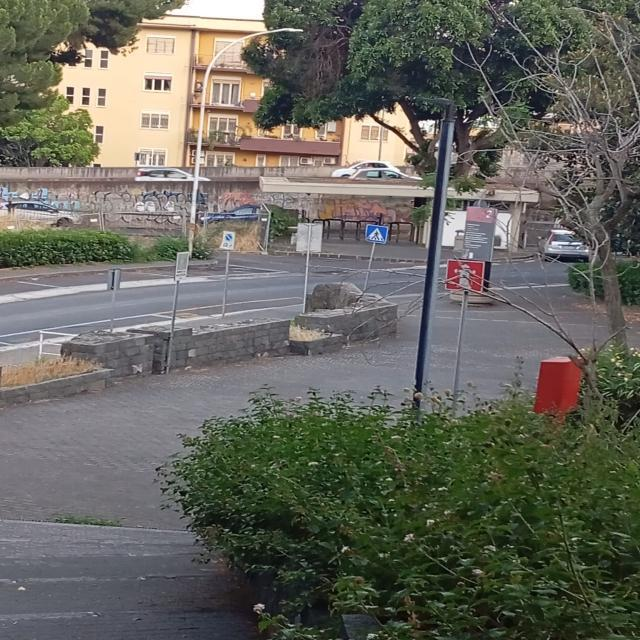info_crosswalk: (366, 224, 389, 244)
